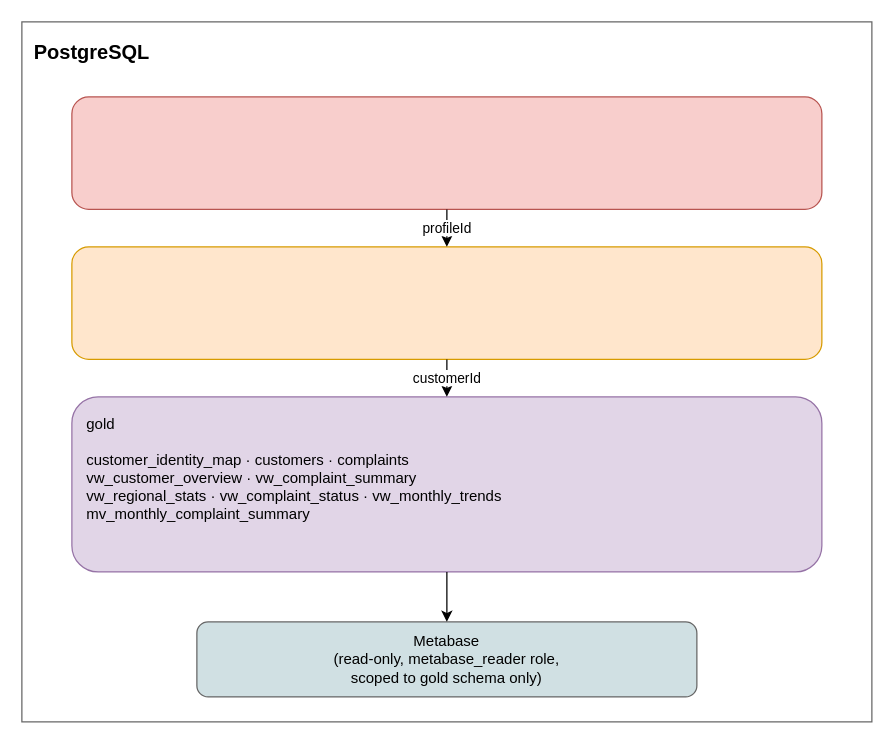
The diagram is 894 pixels wide and 744 high, and some of its shapes have lost their labels. Each missing label, with the centre of its shape:
public client (external/upstream CRM, simulated locally): the point at 446,152
staging ingestion_log · customers · complaints: the point at 446,302
